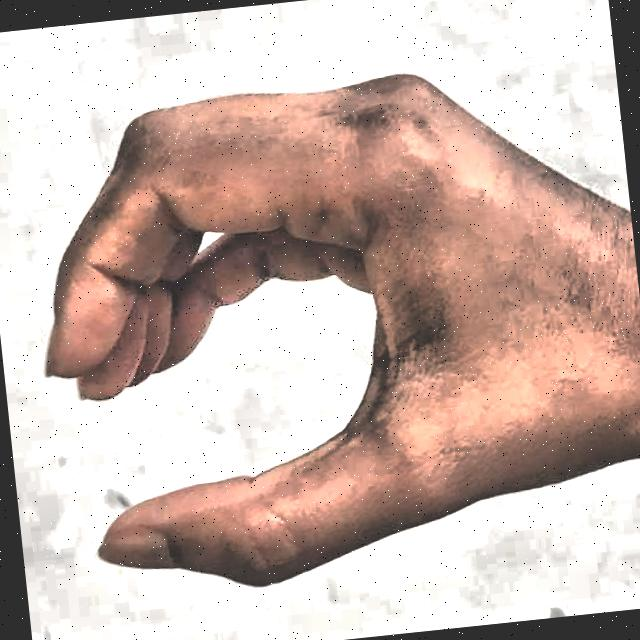Ka: (2, 17, 640, 632)
